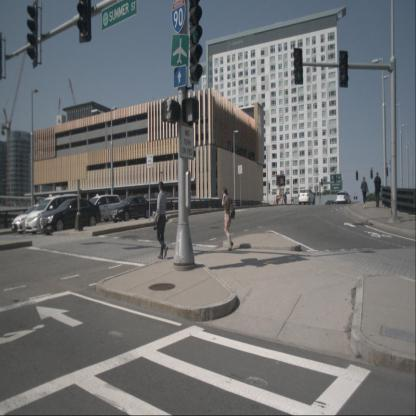cone: (281, 194, 284, 204), (273, 196, 276, 206)
